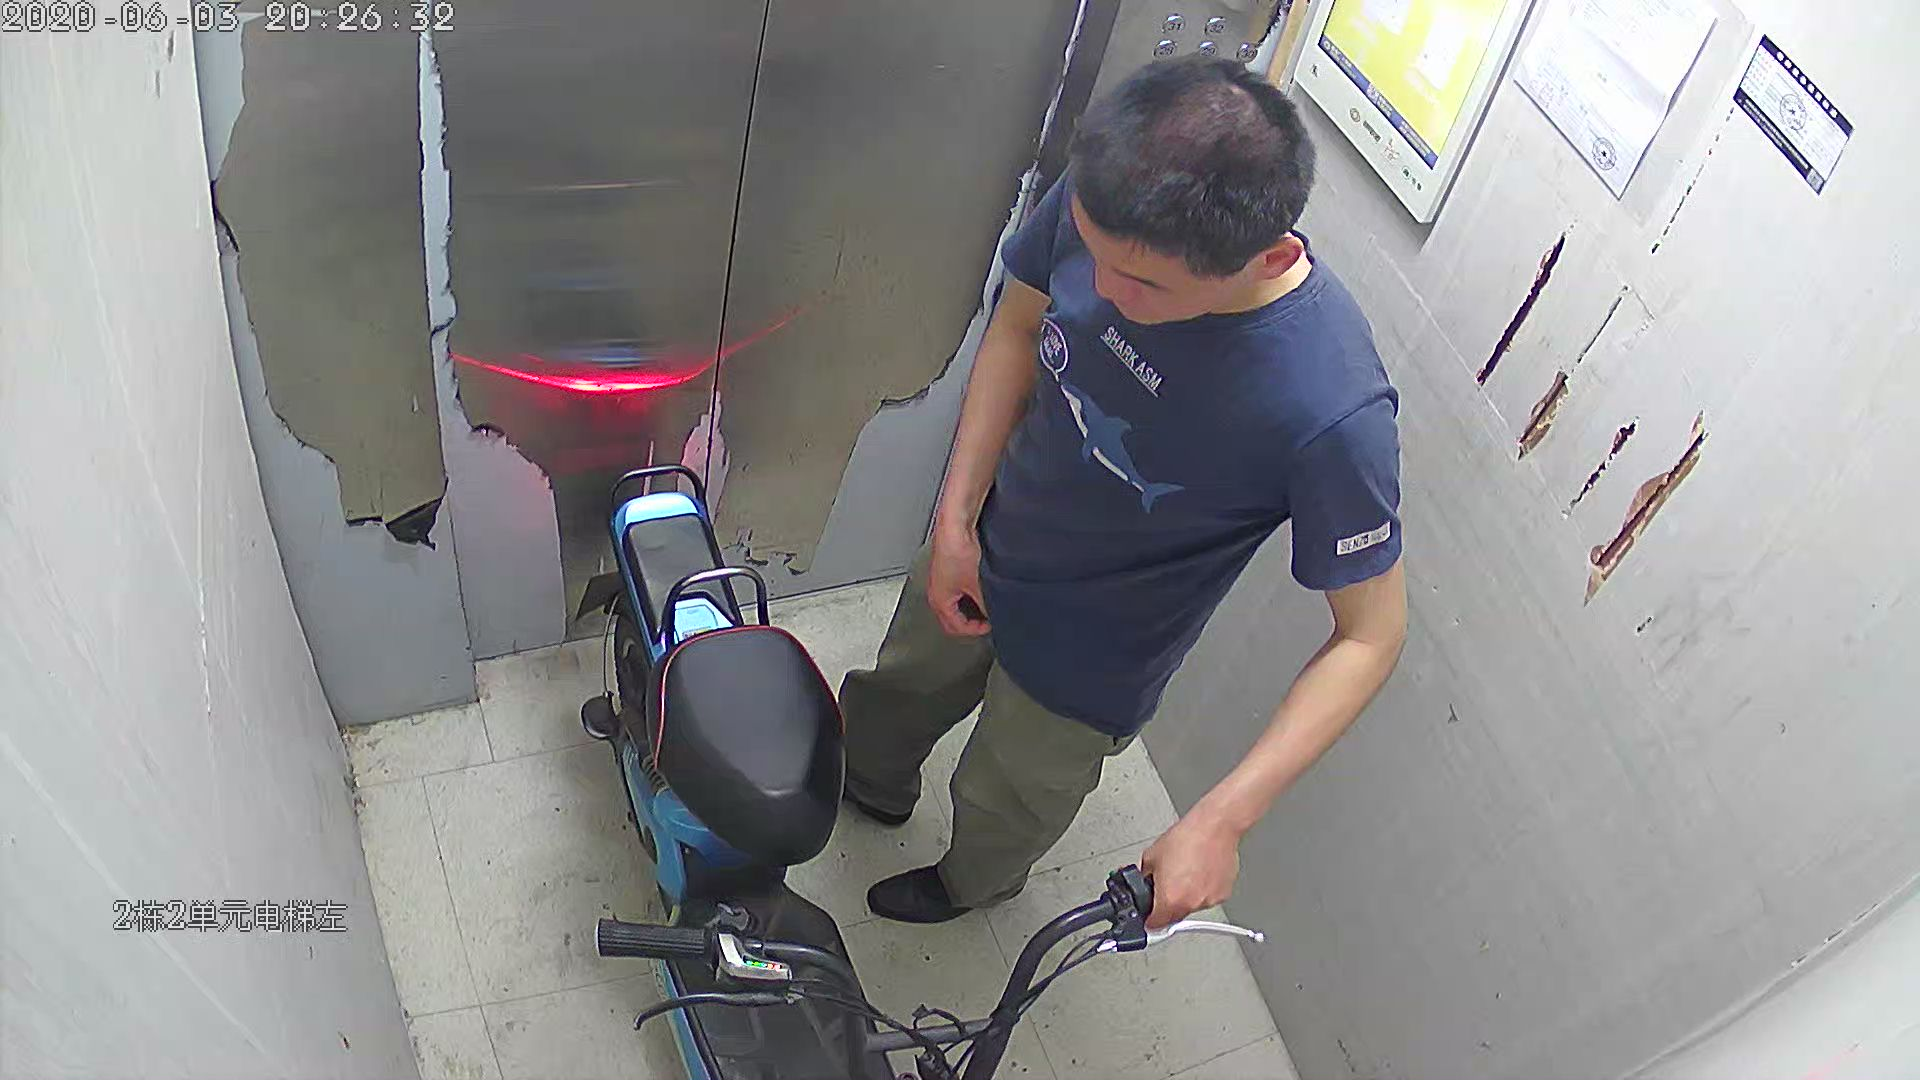Electric-bicycle: (579, 456, 1242, 1080)
